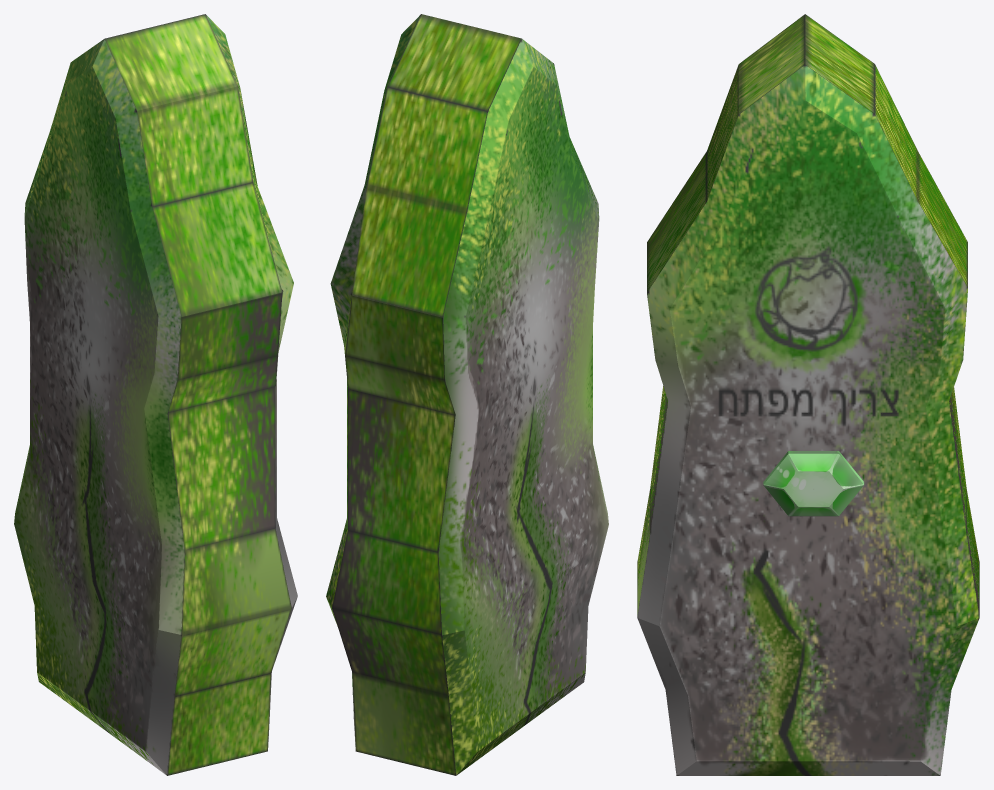
The model's file is centregreenSTONE.fbx.
3 views of the same model, side by side, from view 1: azimuth 30°, elevation 25°; view 2: azimuth 150°, elevation 25°; view 3: azimuth 270°, elevation 25° (orthographic). The views are drawn at different scales.
Visible parts, largest first — view 1: polySurface4; view 2: polySurface4; view 3: polySurface4.
Boxes of the visible parts, left/top/right/bottom form: polySurface4: left=14, top=14, right=297, bottom=775; polySurface4: left=326, top=14, right=608, bottom=775; polySurface4: left=637, top=14, right=979, bottom=775.
Size of the model in its own units: 2.13 by 9.49 by 4.14.
2 materials, 2 textured.
